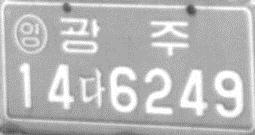1: (12, 63, 41, 108)
2: (142, 67, 173, 115)
4: (179, 68, 208, 116), (47, 64, 74, 108)
6: (109, 65, 138, 112)
9: (214, 69, 244, 118)
광주_D: (59, 17, 190, 56)
다: (78, 67, 105, 108)
영: (13, 12, 48, 55)
